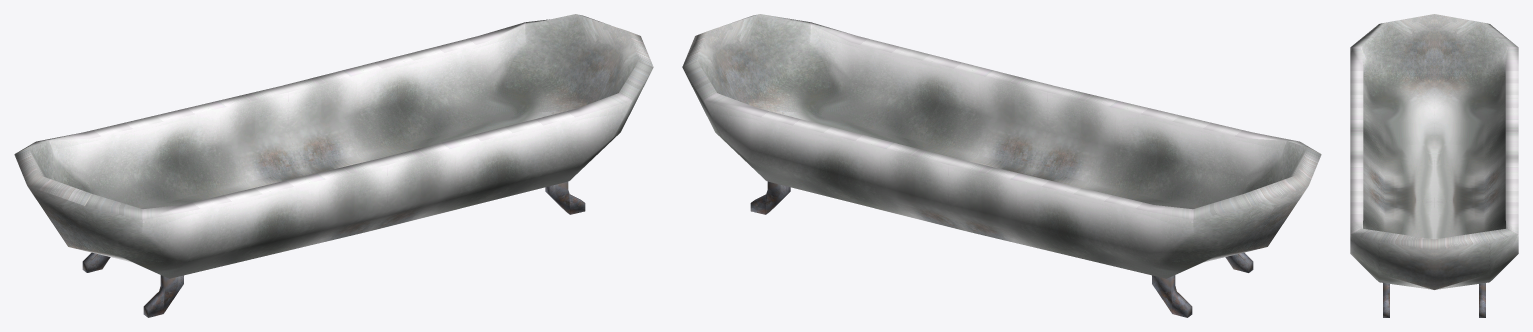
Rendered from BathTub.glb.
3 views of the same model, side by side, from view 1: azimuth 30°, elevation 25°; view 2: azimuth 150°, elevation 25°; view 3: azimuth 270°, elevation 25° (orthographic). The views are drawn at different scales.
Visible parts, largest first — view 1: SymmVert, Cube; view 2: SymmVert, Cube; view 3: SymmVert, Cube.
Part boxes in pixels (<box>): SymmVert: <box>14,14,653,278</box>; Cube: <box>82,181,585,317</box>; SymmVert: <box>682,14,1321,278</box>; Cube: <box>750,181,1253,317</box>; SymmVert: <box>1350,14,1518,289</box>; Cube: <box>1383,282,1485,317</box>.
Bounding box in the file's own units: 7.81 × 1.67 × 2.36.
Materials: 1 (1 with a texture image).
